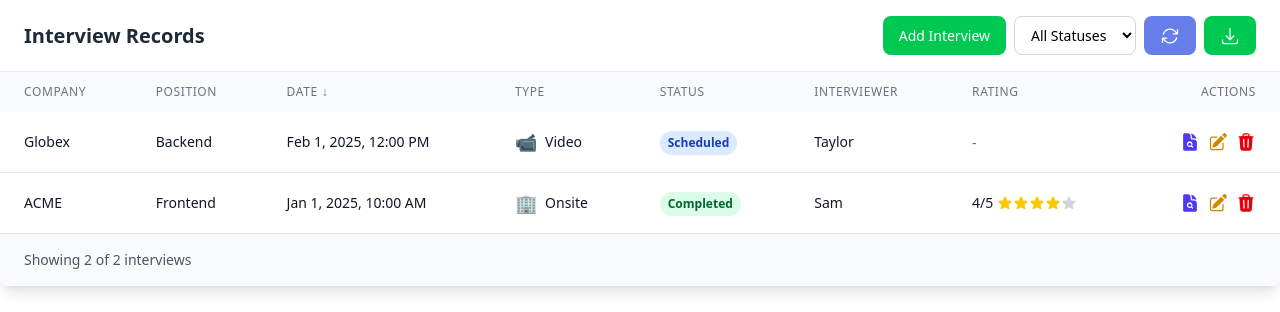
InterviewsTable › filters interviews by status
The width and height of the screenshot is (1280, 312).
Check: the text "ACME" is shown, box [24,193,62,212]
Check: the text "Globex" is shown, box [24,132,70,151]
Select "Completed" in the dropdown with test id "filter-status": x=1075, y=36 [1014,16,1136,55]
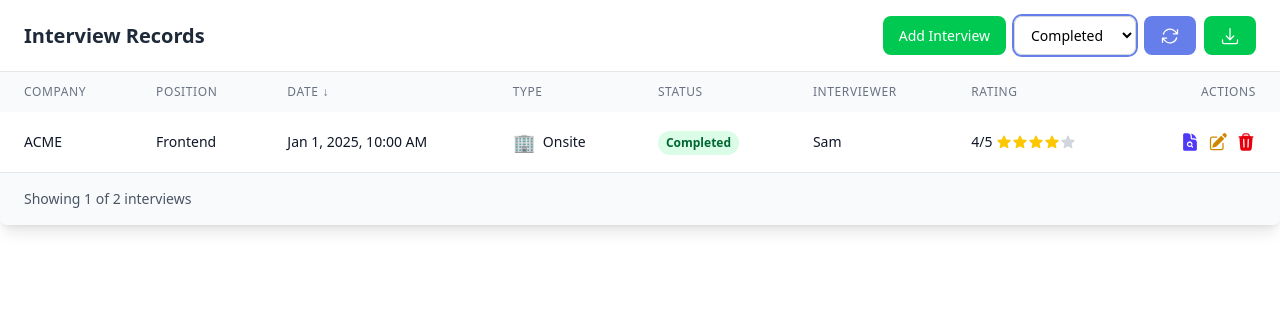
Check: the text "ACME" is shown, box [24,132,62,151]
Check: the text "Globex" is gone
